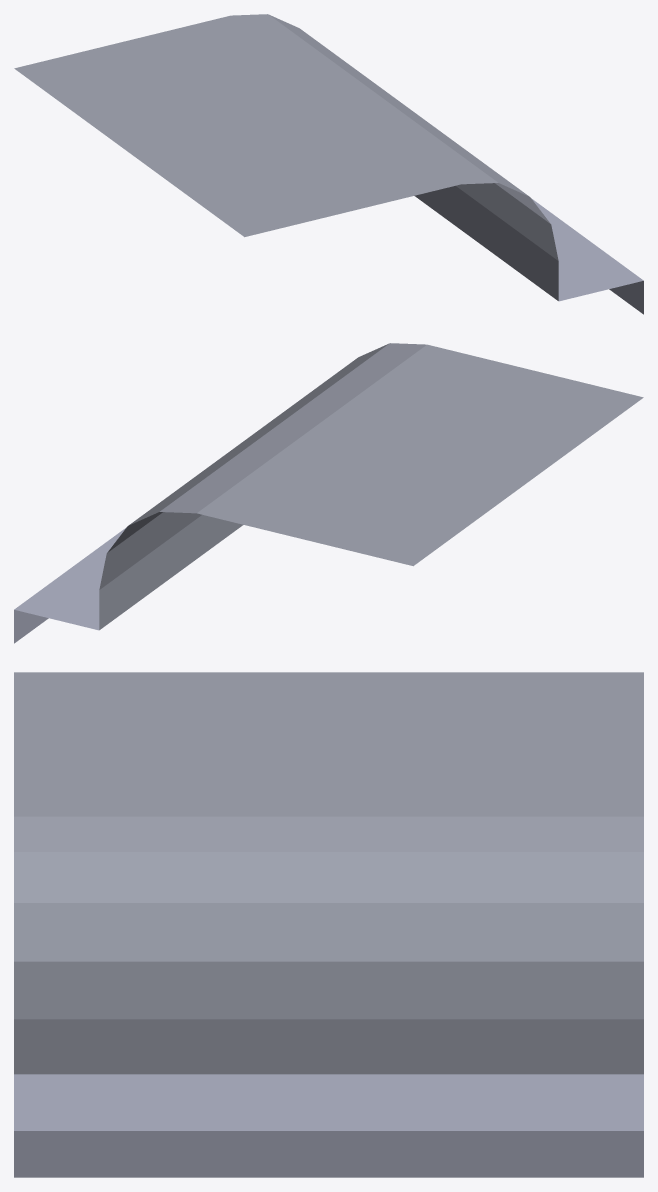
The model's file is frame_platform1.fbx.
3 views of the same model, one above another, from view 1: azimuth 30°, elevation 25°; view 2: azimuth 150°, elevation 25°; view 3: azimuth 270°, elevation 25° (orthographic). The views are drawn at different scales.
Visible parts, largest first — view 1: frame_platform1; view 2: frame_platform1; view 3: frame_platform1.
Boxes of the visible parts, bbox=[...] form: frame_platform1: bbox=[14, 14, 643, 314]; frame_platform1: bbox=[14, 343, 643, 643]; frame_platform1: bbox=[14, 672, 643, 1177].
Bounding box in the file's own units: 100 × 41.88 × 100.
